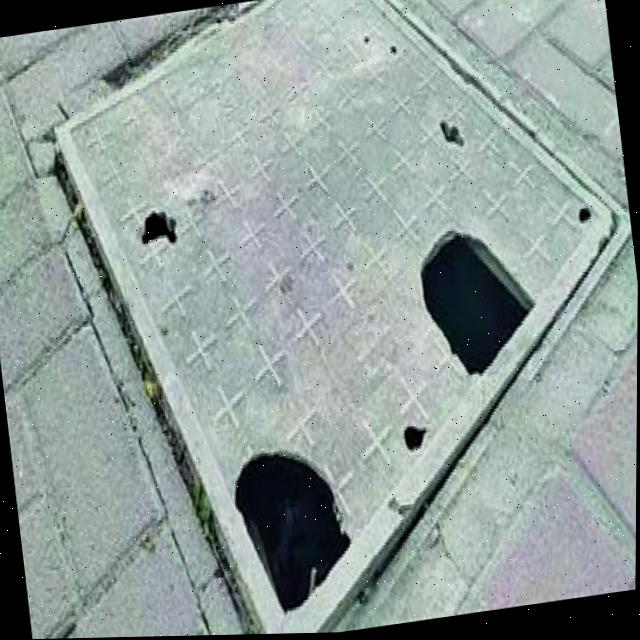manhole: (35, 0, 640, 639)
